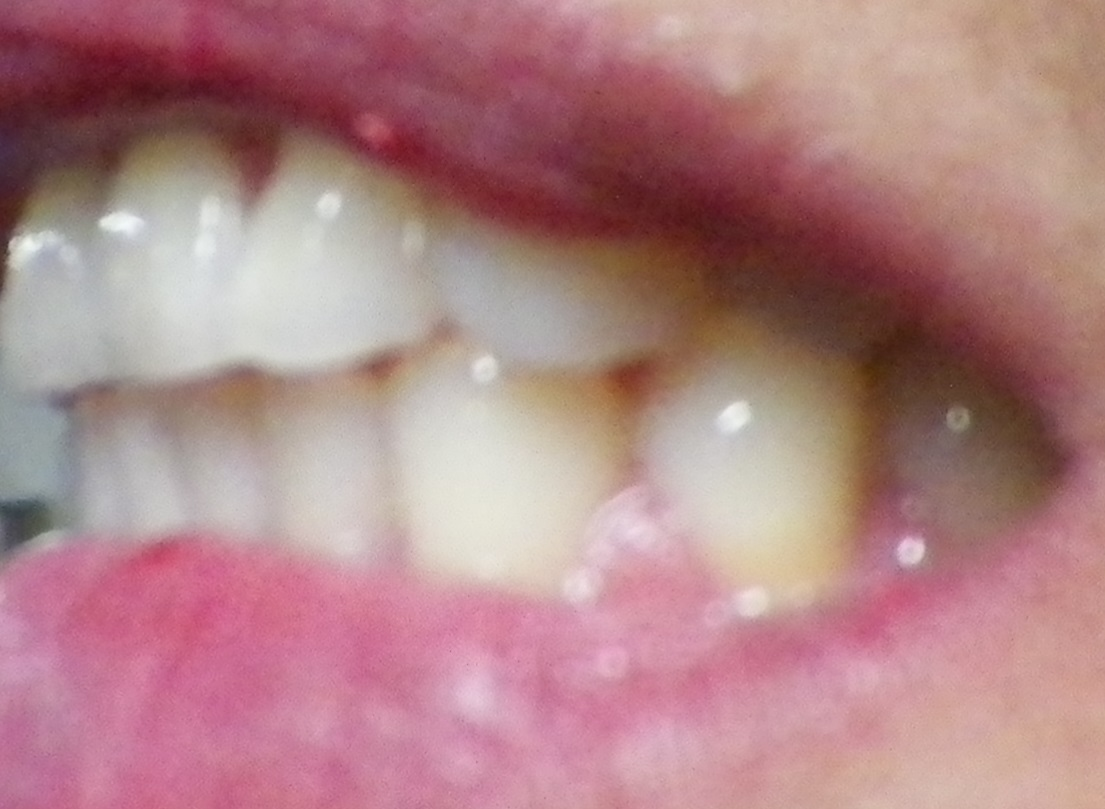boca: (4, 141, 1003, 608)
